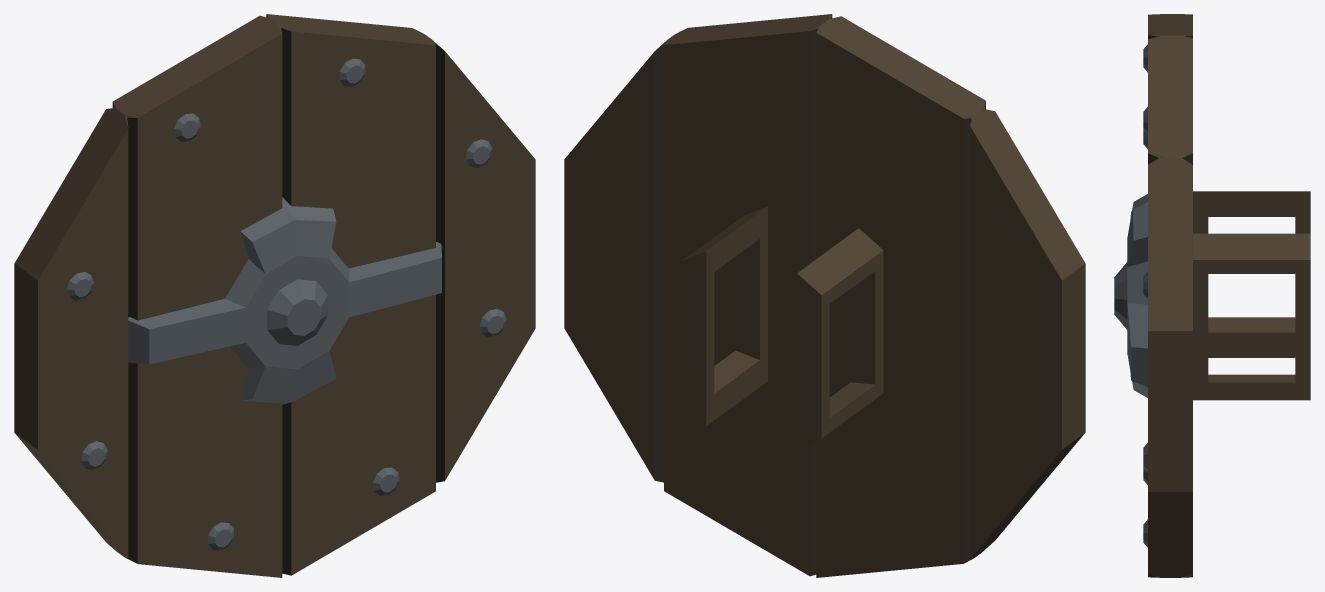
Rendered from WoodenShield_B.glb.
3 renders of one model, left to right at view 1: azimuth 30°, elevation 25°; view 2: azimuth 150°, elevation 25°; view 3: azimuth 270°, elevation 25°, orthographic. The views are drawn at different scales.
Visible parts, largest first — view 1: WoodenShield_B; view 2: WoodenShield_B; view 3: WoodenShield_B.
Boxes of the visible parts, bbox=[...] form: WoodenShield_B: bbox=[14, 14, 535, 577]; WoodenShield_B: bbox=[564, 14, 1085, 577]; WoodenShield_B: bbox=[1114, 14, 1310, 577].
Bounding box in the file's own units: 0.418 × 0.4395 × 0.15.
1 material, 1 textured.
